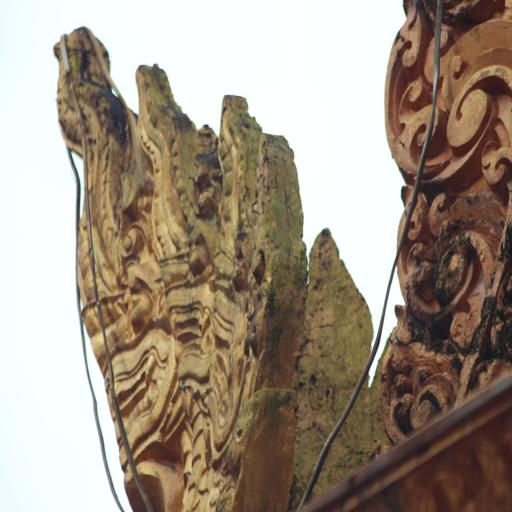ran: (48, 38, 298, 512)
